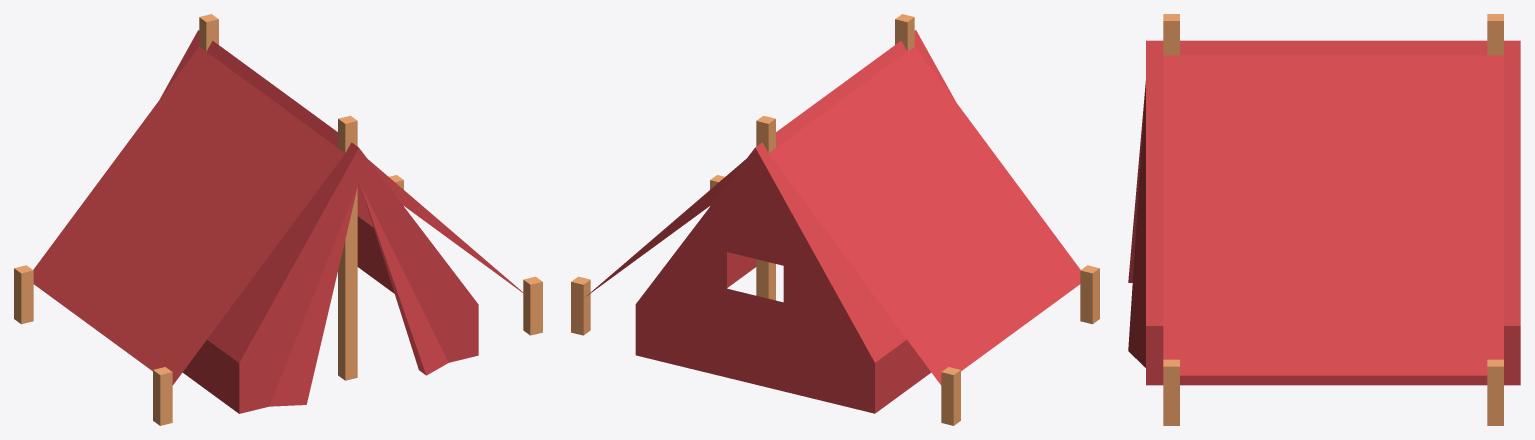
Rendered from tent_detailedOpen.fbx.
The picture shows the model from 3 angles, left to right: view 1: azimuth 30°, elevation 25°; view 2: azimuth 150°, elevation 25°; view 3: azimuth 270°, elevation 25°; orthographic projection. The views are drawn at different scales.
Visible parts, largest first — view 1: tent_detailedOpen; view 2: tent_detailedOpen; view 3: tent_detailedOpen.
Part boxes in pixels (x1,y1,x2,y2): tent_detailedOpen: [14, 14, 542, 425]; tent_detailedOpen: [571, 14, 1099, 425]; tent_detailedOpen: [1128, 14, 1520, 425].
Size of the model in its own units: 8.75 by 5.61 by 6.66.
